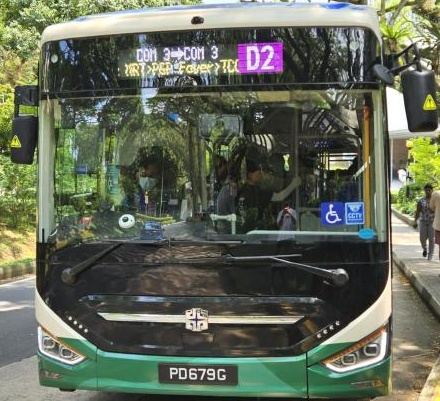bus: (237, 42, 282, 74)
